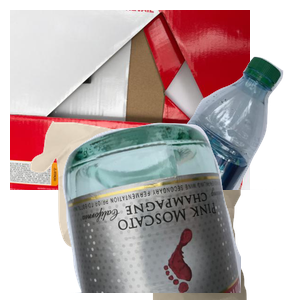cardboard: (10, 10, 250, 190)
glass: (60, 120, 300, 300)
plastic: (142, 54, 300, 234)
trash: (28, 120, 267, 300)
